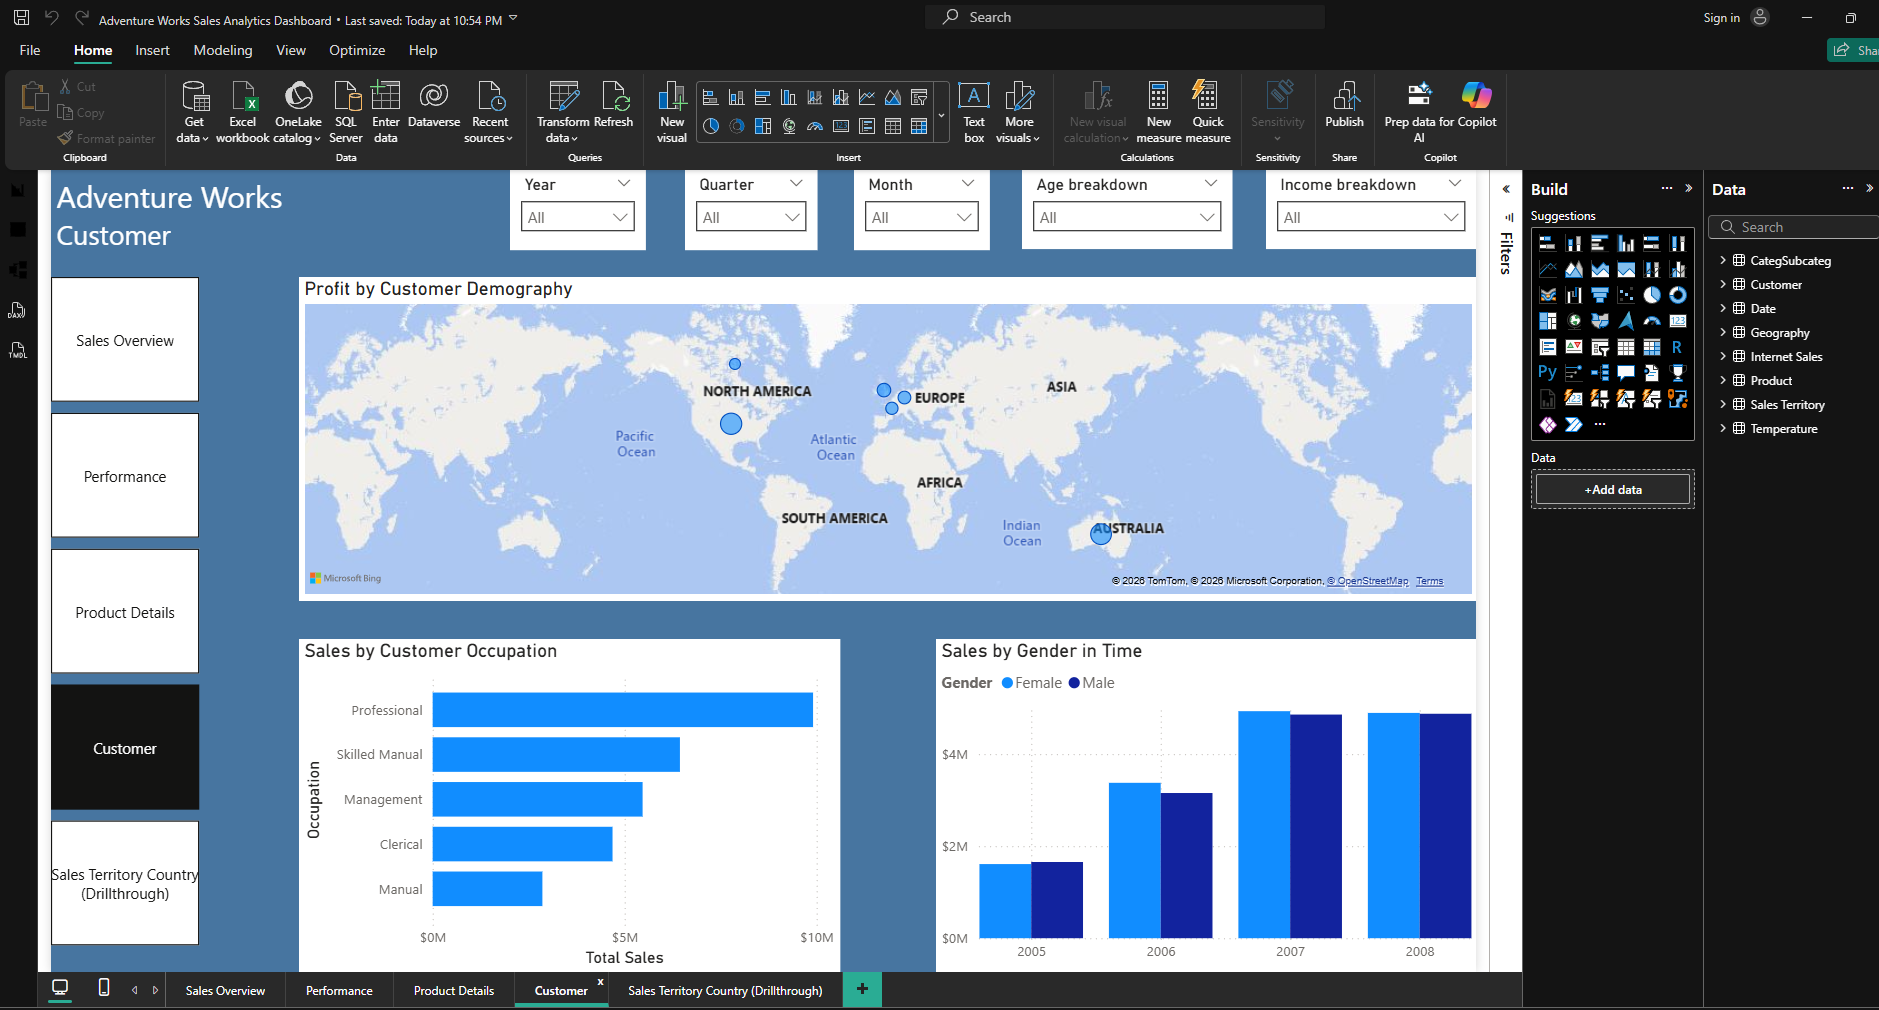

What the dashboard file says about the page in this screenshot:
{"tool":"powerbi","page":{"name":"Customer","canvas":[1280,720],"ordinal":3},"visuals":[{"type":"map","title":"Profit by Customer Demography","fields":{"Category":["Geography.Customer Geography Hierarchy.CustomerCountry","Geography.Customer Geography Hierarchy.CustomerState","Geography.Customer Geography Hierarchy.CustomerCity"],"Size":["Internet Sales.Profit"]},"box":[222.6,96.1,1057.6,290],"z":0},{"type":"slicer","fields":{"Values":["Customer.Age breakdown"]},"box":[871.9,0,188.9,71.4],"z":1000},{"type":"pageNavigator","box":[0,96,133.3,601.3],"z":2000},{"type":"textbox","box":[0,0,402.9,81.1],"z":4000},{"type":"slicer","fields":{"Values":["Customer.Income breakdown"]},"box":[1091.1,0,188.9,71.4],"z":6000},{"type":"clusteredBarChart","title":"Sales by Customer Occupation","fields":{"Category":["Customer.Occupation"],"Y":["Internet Sales.Total Sales"]},"box":[222.6,421,485.7,299],"z":7000},{"type":"slicer","fields":{"Values":["Date.Calendar Quarter"]},"box":[568.9,0,119.1,71.7],"z":8000},{"type":"slicer","fields":{"Values":["Date.Month Name"]},"box":[720.8,0,121.6,71.7],"z":9000},{"type":"slicer","fields":{"Values":["Date.Calendar Year"]},"box":[412.1,0,121.6,71.7],"z":10000},{"type":"clusteredColumnChart","title":"Sales by Gender in Time","fields":{"Category":["Date.Calendar Hierarchy.Calendar Year","Date.Calendar Hierarchy.Calendar Quarter","Date.Calendar Hierarchy.Month Name"],"Y":["Internet Sales.Total Sales"],"Series":["Customer.Gender"]},"box":[794.5,421,485.7,299],"z":11000}]}

Visuals, with their boxes on the page's 1280x720 design canvas (x1, y1, x2, y2). These are canvas units, not pixel positions in the 1879x1010 screenshot, which may show the page scaled, cropped or inside an application window:
"Profit by Customer Demography" map: <region>223, 96, 1280, 386</region>
slicer - Customer.Age breakdown: <region>872, 0, 1061, 71</region>
pageNavigator: <region>0, 96, 133, 697</region>
textbox: <region>0, 0, 403, 81</region>
slicer - Customer.Income breakdown: <region>1091, 0, 1280, 71</region>
"Sales by Customer Occupation" clusteredBarChart: <region>223, 421, 708, 720</region>
slicer - Date.Calendar Quarter: <region>569, 0, 688, 72</region>
slicer - Date.Month Name: <region>721, 0, 842, 72</region>
slicer - Date.Calendar Year: <region>412, 0, 534, 72</region>
"Sales by Gender in Time" clusteredColumnChart: <region>794, 421, 1280, 720</region>
